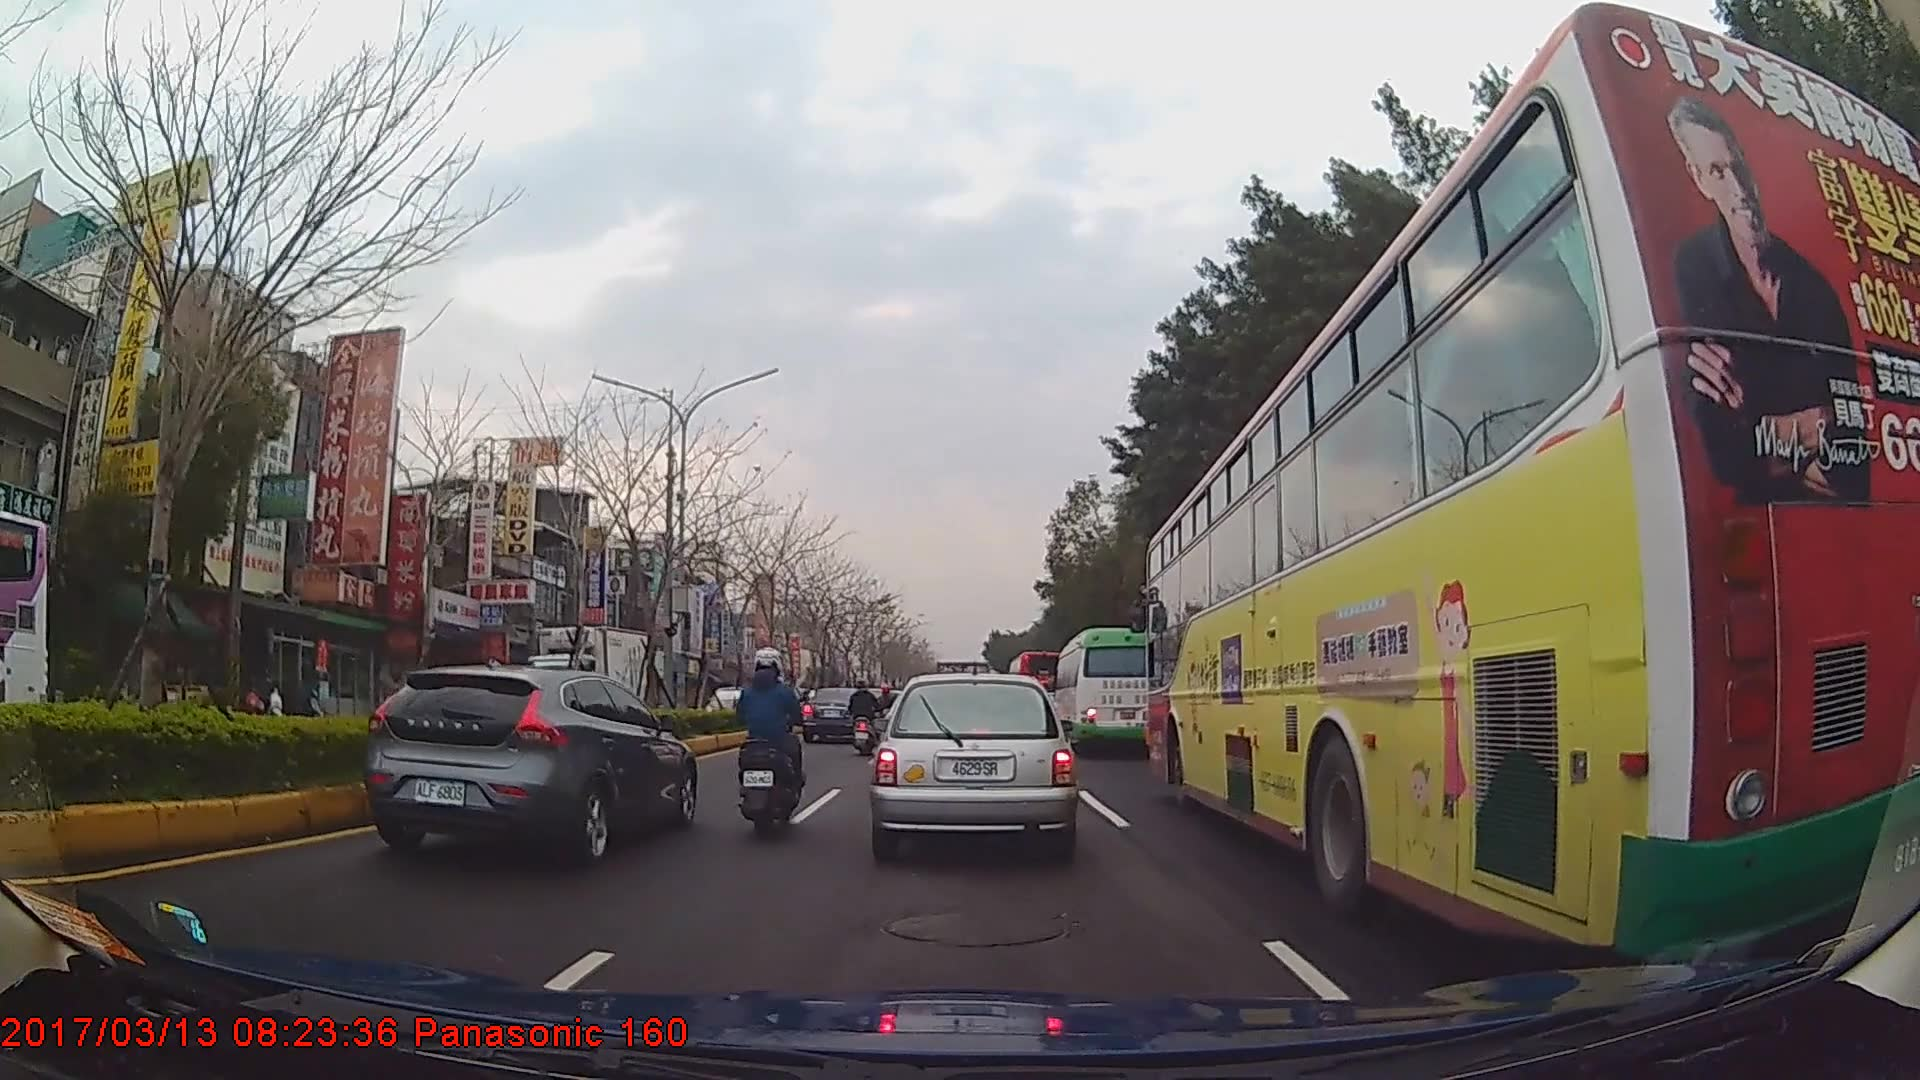rider: (734, 644, 810, 824), (849, 679, 884, 750), (877, 682, 900, 738)
vehicle: (1145, 5, 1920, 967), (364, 663, 698, 863), (872, 669, 1076, 856), (491, 615, 670, 757), (1054, 626, 1172, 755), (1006, 648, 1069, 721), (803, 687, 875, 742)
